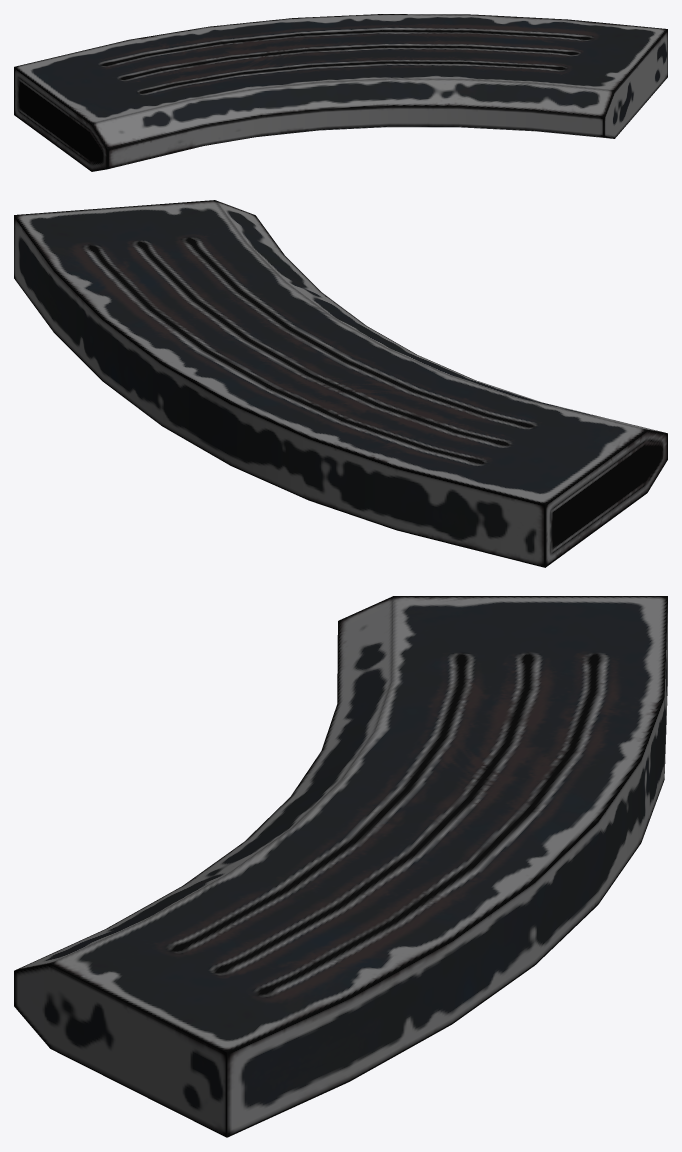
Rendered from AK-47_Mag.fbx.
3 renders of one model, top to bottom at view 1: azimuth 30°, elevation 25°; view 2: azimuth 150°, elevation 25°; view 3: azimuth 270°, elevation 25°, orthographic. The views are drawn at different scales.
Parts seen in each view (by area): view 1: AK-47_mag; view 2: AK-47_mag; view 3: AK-47_mag.
Boxes of the visible parts, x1=… form: AK-47_mag: x1=14, y1=14, x2=667, y2=171; AK-47_mag: x1=14, y1=200, x2=667, y2=567; AK-47_mag: x1=14, y1=596, x2=667, y2=1137.
Size of the model in its own units: 21.46 by 1.87 by 12.99.
